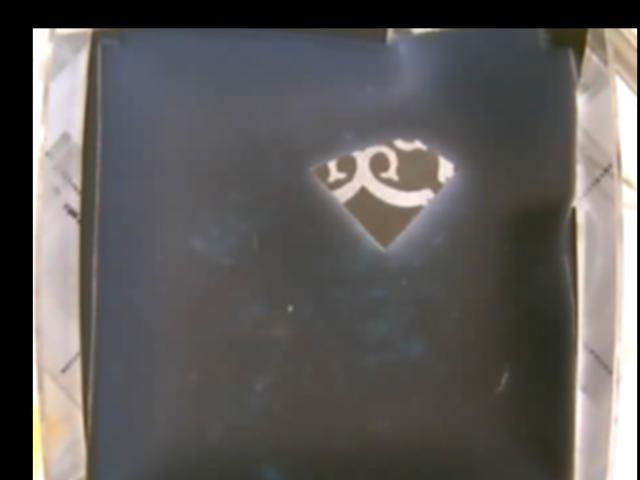China: (311, 133, 455, 249)
